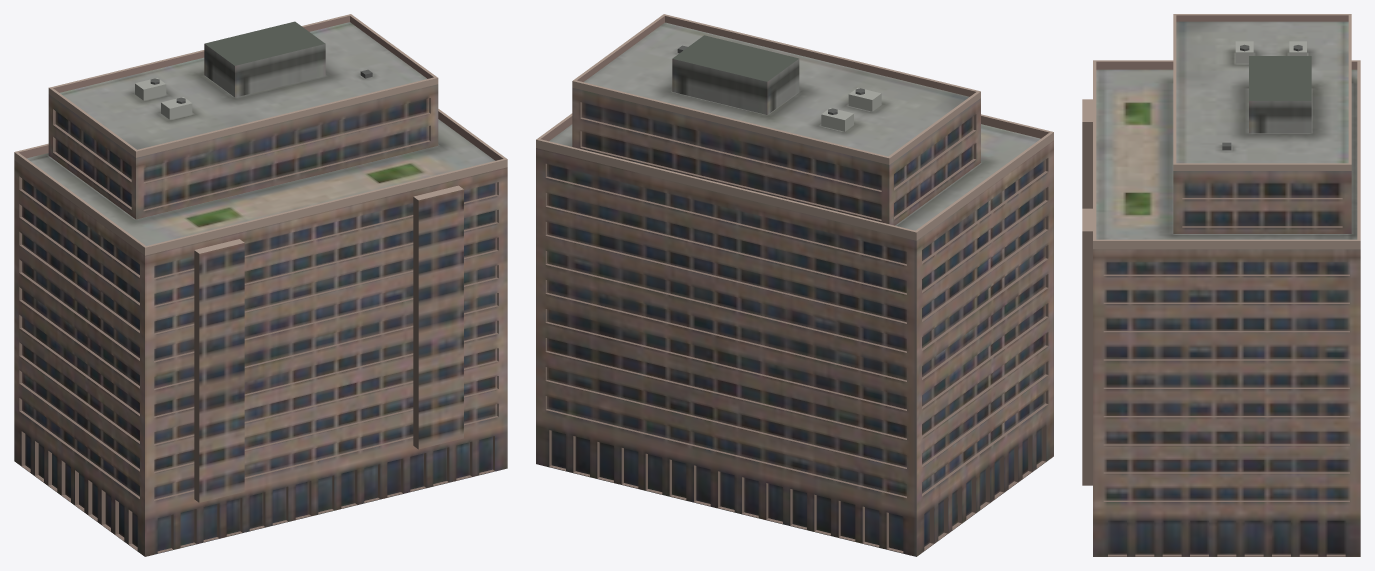
Rendered from dc_office_band_b.glb.
The picture shows the model from 3 angles, left to right: view 1: azimuth 30°, elevation 25°; view 2: azimuth 150°, elevation 25°; view 3: azimuth 270°, elevation 25°; orthographic projection. The views are drawn at different scales.
Visible parts, largest first — view 1: dc_office_band_b; view 2: dc_office_band_b; view 3: dc_office_band_b.
Boxes of the visible parts, x1=… form: dc_office_band_b: x1=14, y1=14, x2=507, y2=556; dc_office_band_b: x1=536, y1=14, x2=1053, y2=556; dc_office_band_b: x1=1082, y1=14, x2=1360, y2=556.
Bounding box in the file's own units: 48 × 49.9 × 31.2.
Materials: 1 (1 with a texture image).
